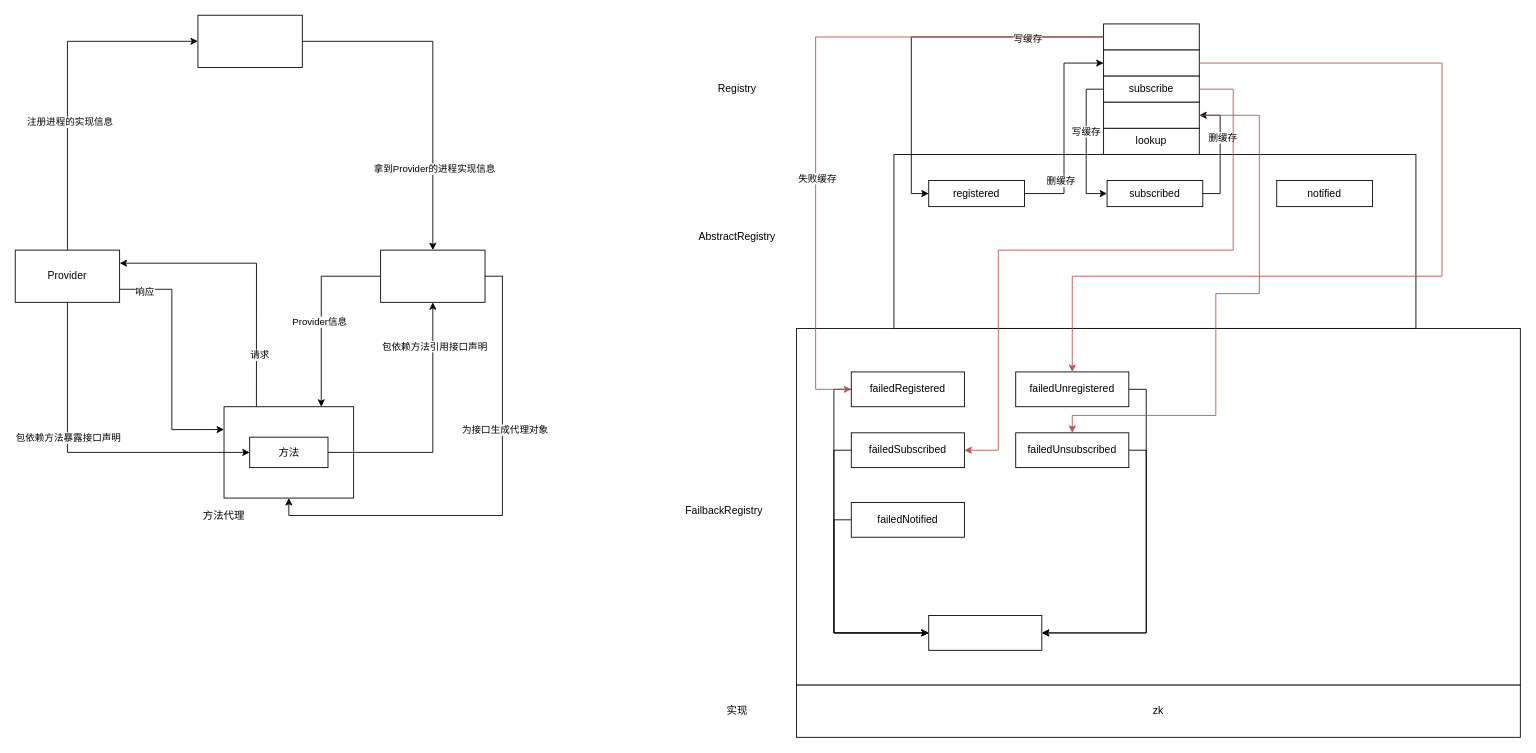
This 1536x753 diagram has some shape labels left out. The centre of each missing label's shape, as x and y in pixels:
"Consumer" goes at (432,275).
"register" goes at (1151,36).
"retryExecutor" goes at (985,632).
"unRegister" goes at (1151,62).
"unSubscribe" goes at (1151,114).
"远程配置中心" goes at (249,40).
